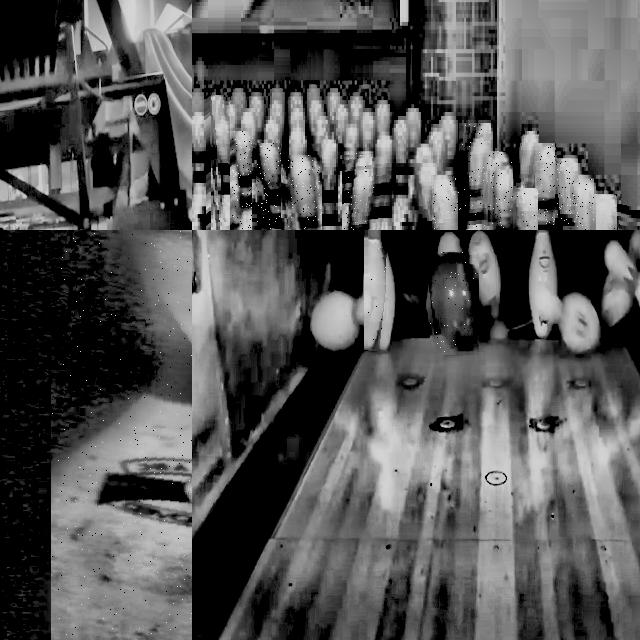bowling-ball: (430, 252, 479, 353)
bowling-pins: (51, 230, 192, 640), (373, 104, 395, 230), (209, 96, 229, 230), (466, 124, 491, 230), (392, 120, 414, 230), (192, 92, 208, 230), (367, 230, 385, 351), (257, 143, 281, 230), (288, 156, 316, 230), (349, 153, 374, 230), (232, 131, 251, 230), (319, 140, 339, 230), (490, 152, 512, 230), (556, 159, 578, 230), (538, 143, 555, 230), (490, 163, 511, 230), (417, 155, 435, 230), (342, 124, 359, 196), (521, 132, 538, 188), (340, 198, 354, 230)
